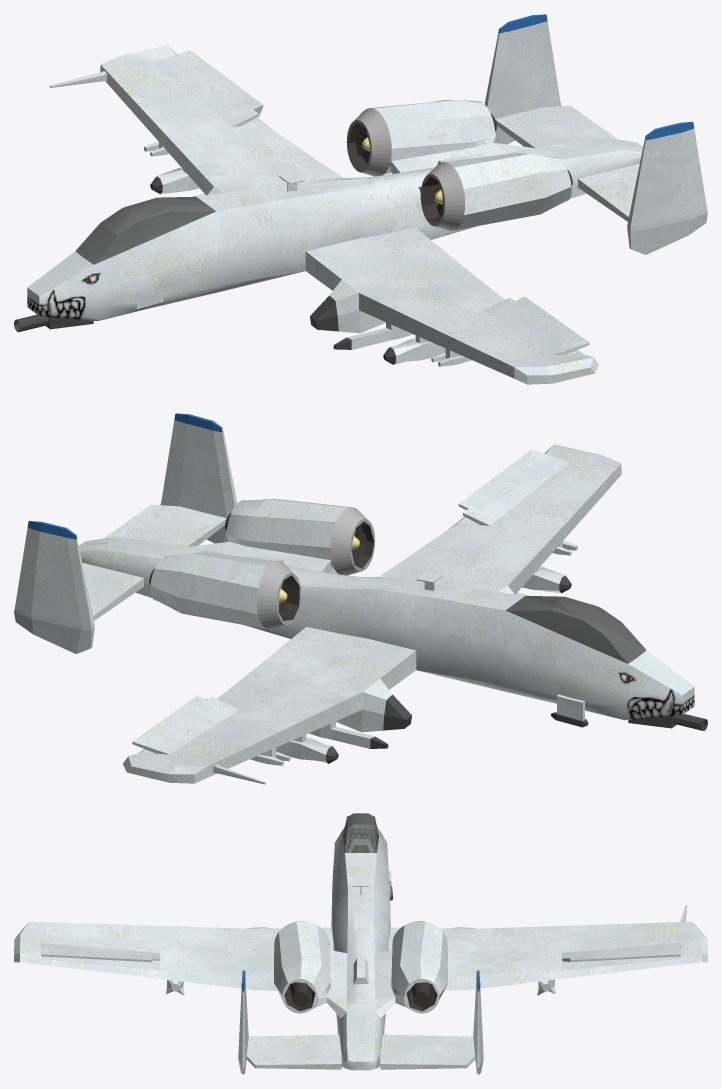
The model's file is a-10_thunderbolt_ii_warthog_plane__avion.glb.
3 renders of one model, top to bottom at view 1: azimuth 30°, elevation 25°; view 2: azimuth 150°, elevation 25°; view 3: azimuth 270°, elevation 25°, orthographic. The views are drawn at different scales.
Parts seen in each view (by area): view 1: Object_3, Object_4, Object_6, Object_7, Object_8, Object_5; view 2: Object_3, Object_4, Object_6, Object_7, Object_8, Object_5; view 3: Object_3, Object_8, Object_4.
Boxes of the visible parts, box(x1,y1,x2,y2) form: Object_3: box(27, 21, 707, 384); Object_4: box(75, 196, 215, 264); Object_6: box(346, 108, 465, 230); Object_7: box(14, 176, 395, 364); Object_8: box(347, 113, 572, 221); Object_5: box(498, 14, 694, 140); Object_3: box(14, 420, 694, 784); Object_4: box(506, 596, 646, 663); Object_6: box(256, 507, 375, 629); Object_7: box(326, 575, 707, 763); Object_8: box(149, 512, 374, 620); Object_5: box(27, 413, 222, 539); Object_3: box(14, 825, 707, 1074); Object_8: box(284, 982, 437, 1011); Object_4: box(342, 813, 379, 852).
Bounding box in the file's own units: 23.38 × 4.89 × 28.09.
Materials: 7 (7 with a texture image).
